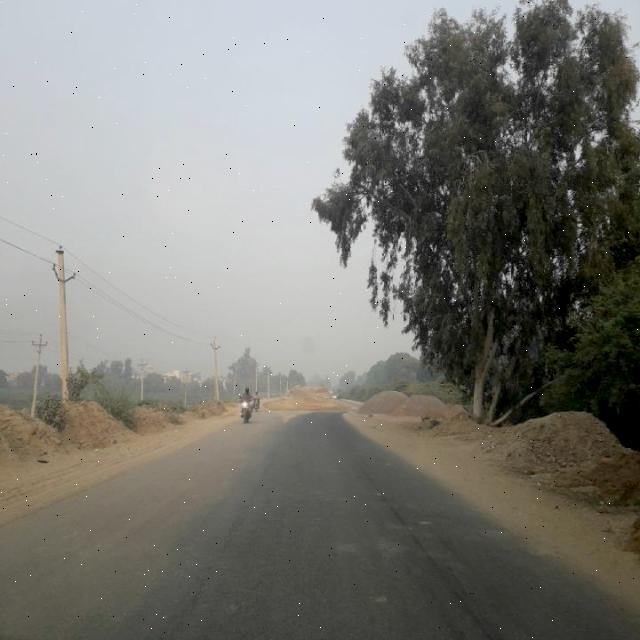D20: (156, 506, 402, 638)
